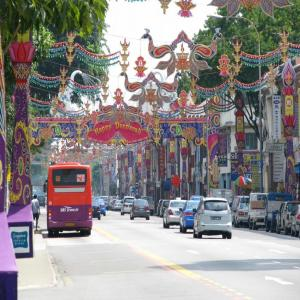Vehicle-registration-plate: (212, 218, 222, 221)
